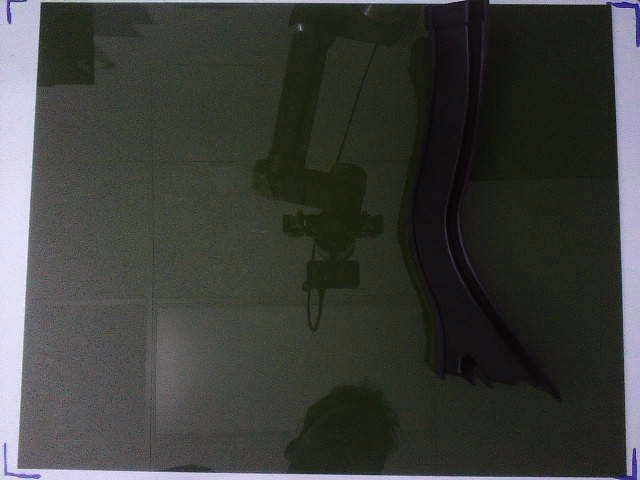887_B-Under: (414, 1, 562, 404)
